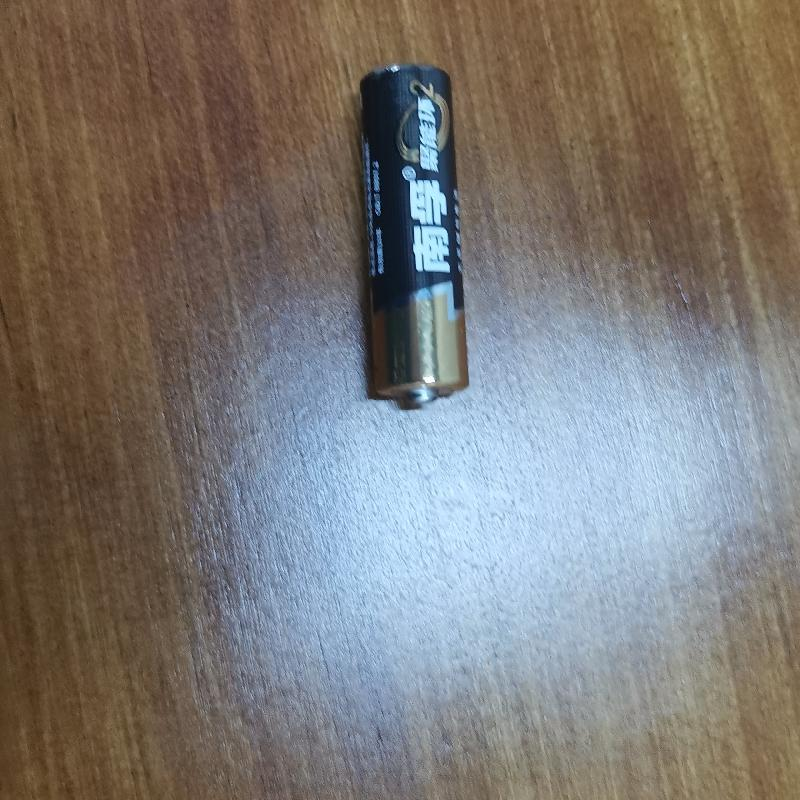battery: (347, 63, 478, 414)
